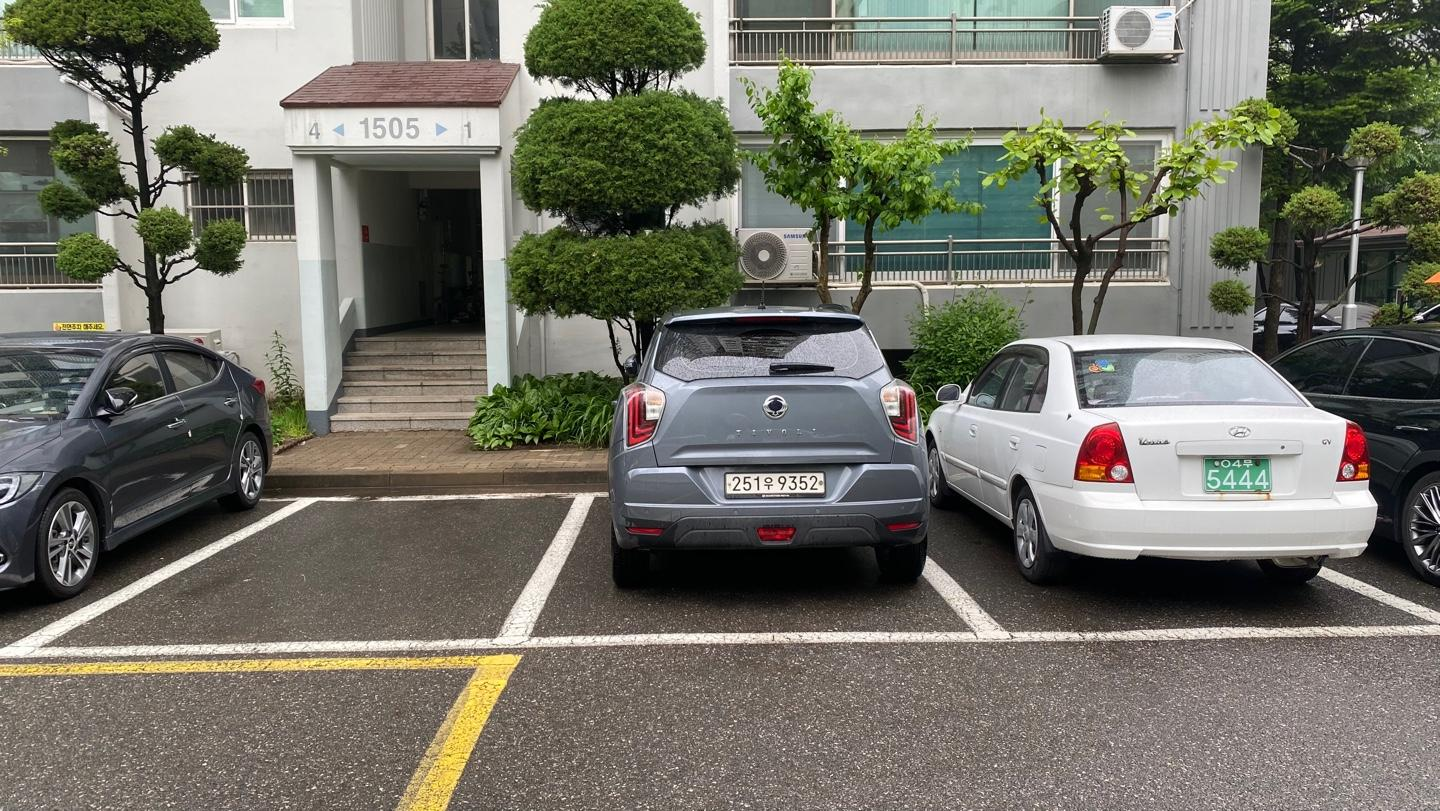empty: (0, 491, 596, 656)
occupied: (970, 330, 1382, 586), (610, 309, 931, 588)
